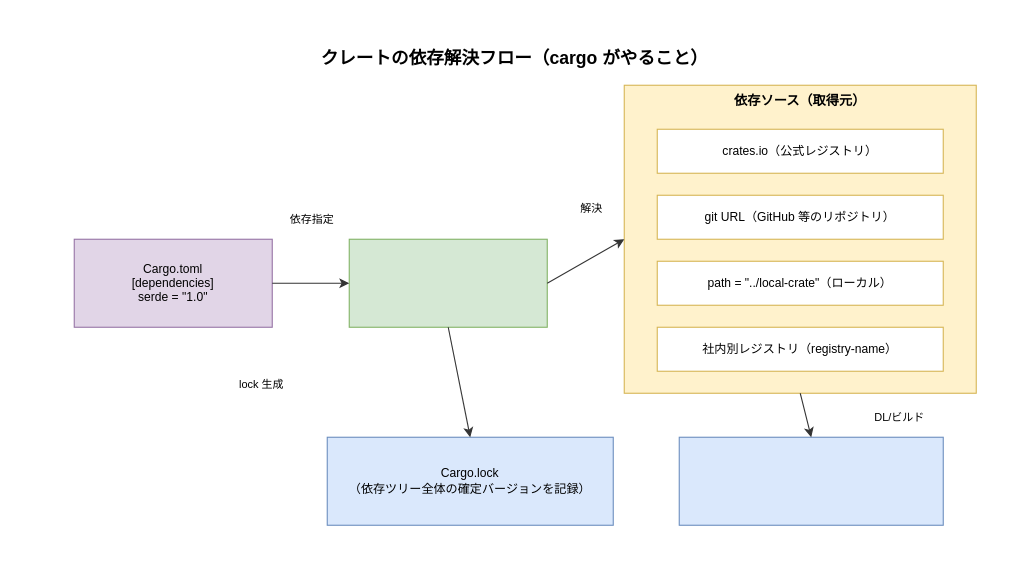
The diagram is 1027 pixels wide and 587 high, and some of its shapes have lost their labels. Here are the shapes that lost their labels. From the top down, the centre of each, then its label:
(447,282): cargo build / cargo check （resolver）
(810,480): target/deps （DL 済み & コンパイル成果物）
